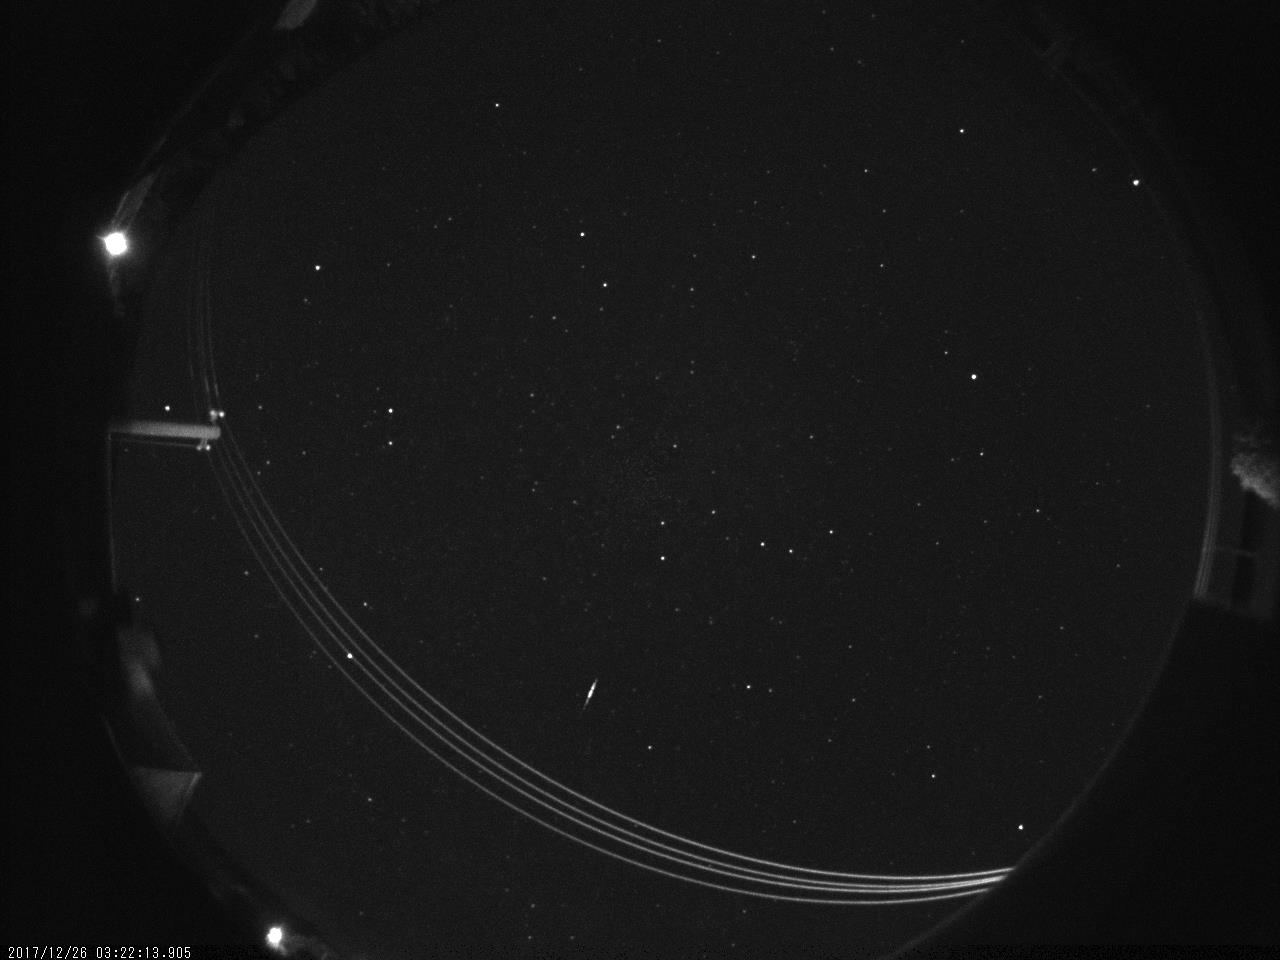meteor: (563, 663, 612, 722)
